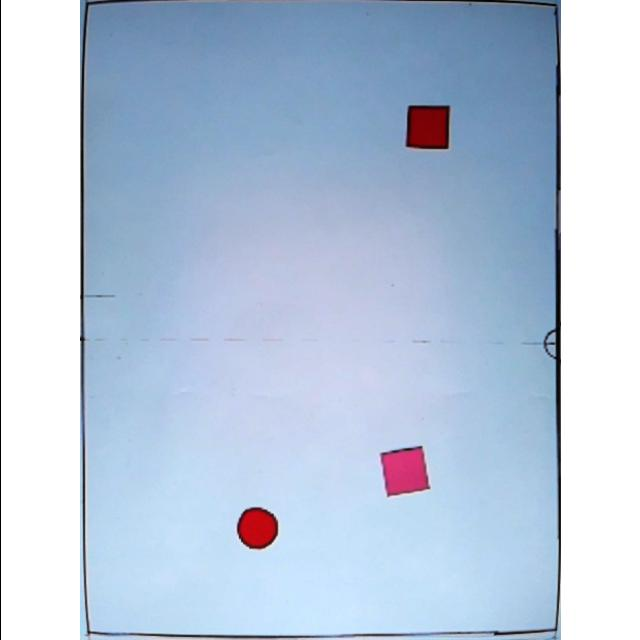pinkSquare: (381, 447, 431, 498)
redCircle: (235, 507, 281, 551)
redSquare: (406, 105, 450, 152)
